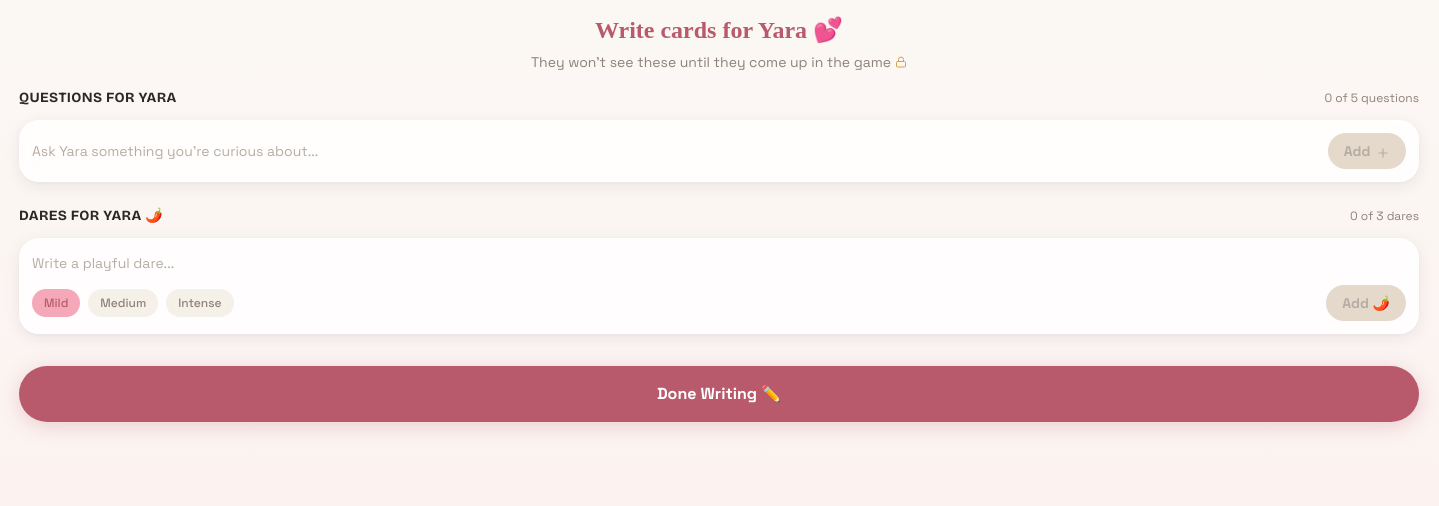
Scenario: PartnerAuthoredSetup › adds a question when Add button is clicked
Type "What is your biggest dream?" into the field with placeholder "Ask Yara something you're curious about...". click: x=676, y=151
box: [32,133,1320,169]
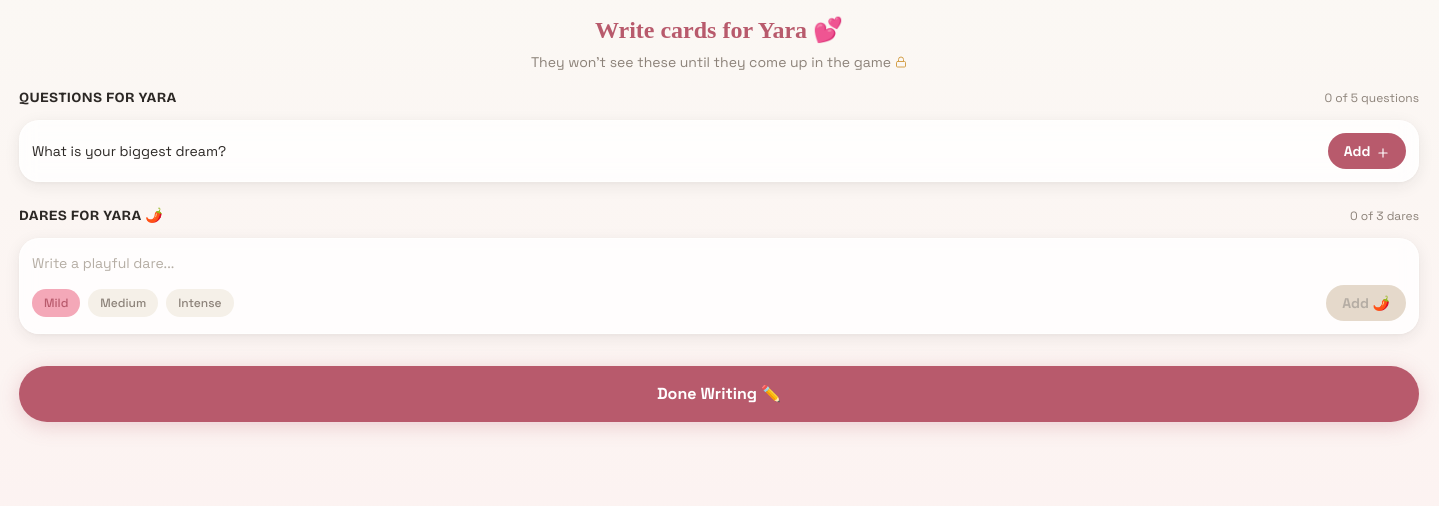
Click the button "Add". click: x=1367, y=151
box: [1328,133,1406,169]
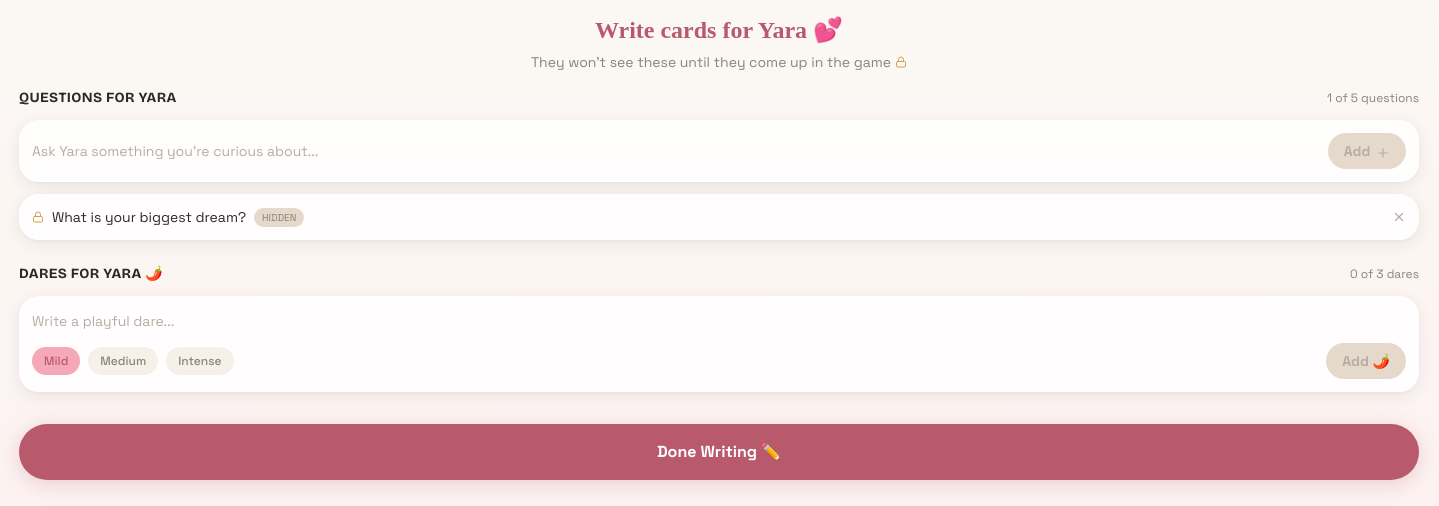
Expected: the text "What is your biggest dream?" is shown, [52,207,246,227]
Expected: the text "1 of 5 questions" is shown, [1327,90,1419,106]
